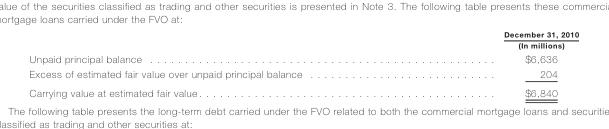table: (28, 29, 578, 97)
table column: (28, 29, 402, 97), (402, 29, 578, 97)
table column header: (28, 29, 578, 51)
table row: (28, 29, 578, 51), (28, 66, 578, 83), (28, 51, 578, 66), (28, 83, 578, 97)
